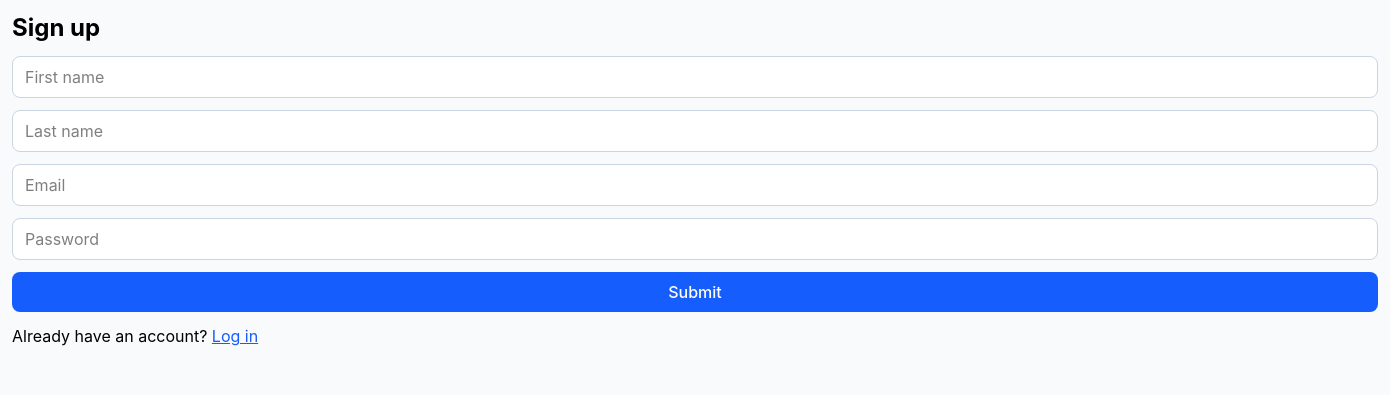
invalid input
Step 1. Type "test@example.com" into the field with placeholder "Email" → (695, 185), box x1=12 y1=164 x2=1378 y2=206
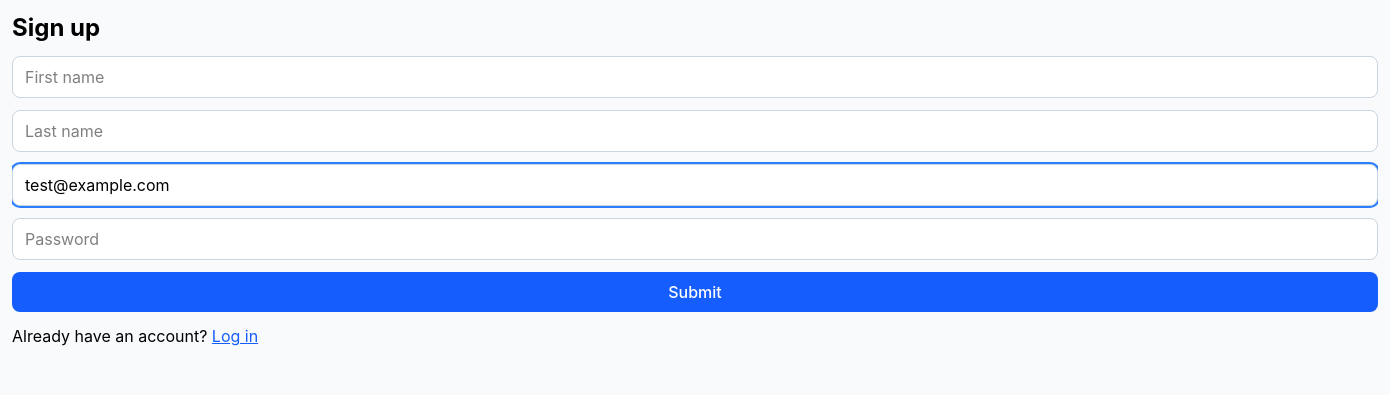
Step 2. Type "Kolya" into the field with placeholder "First name" → (695, 77), box x1=12 y1=56 x2=1378 y2=98
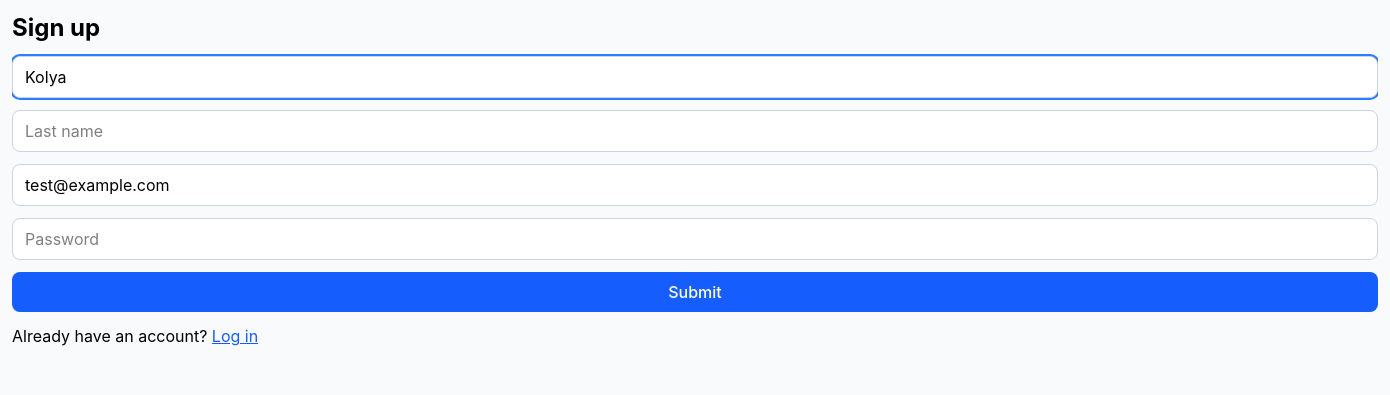
Step 3. Type "Examplovich" into the field with placeholder "Last name" → (695, 131), box x1=12 y1=110 x2=1378 y2=152
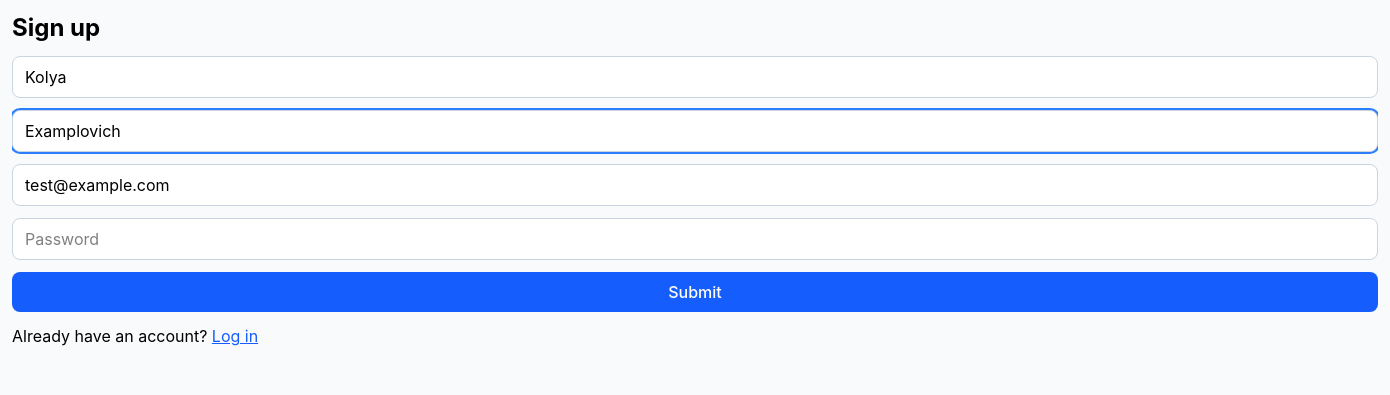
Step 4. Type "password" into the password field with placeholder "Password" → (695, 239), box x1=12 y1=218 x2=1378 y2=260
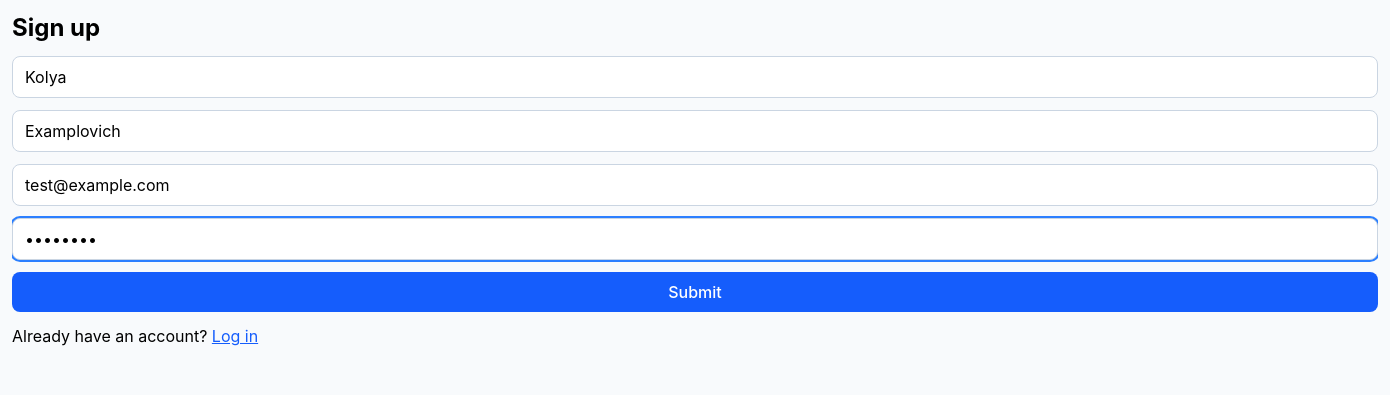
Step 5. Click the button "Submit" → click(695, 292), box x1=12 y1=272 x2=1378 y2=312
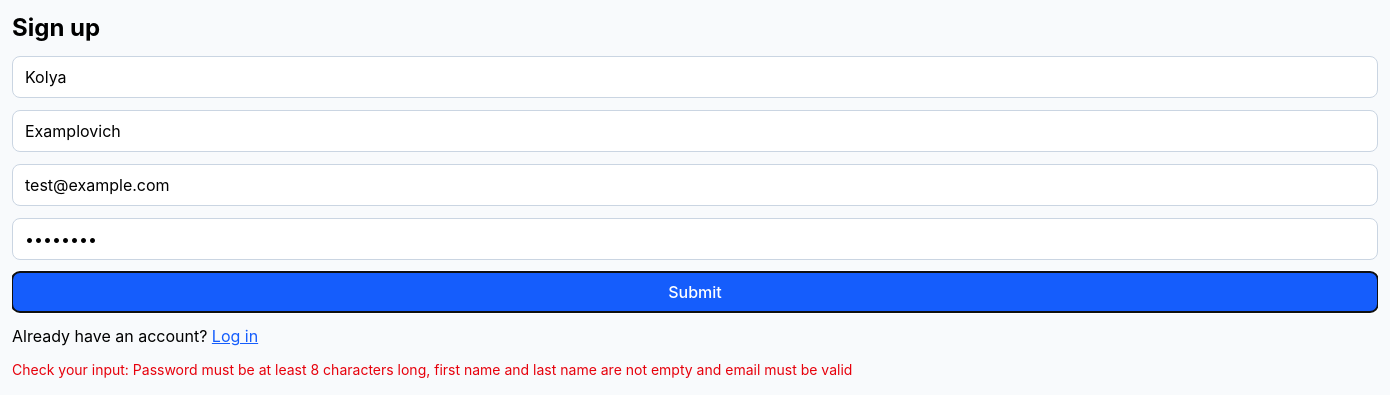
Expected: the heading "Sign up" is shown, x1=12 y1=13 x2=100 y2=42
Now the text "Password must be at least 8 characters" is shown, box x1=12 y1=361 x2=852 y2=378
